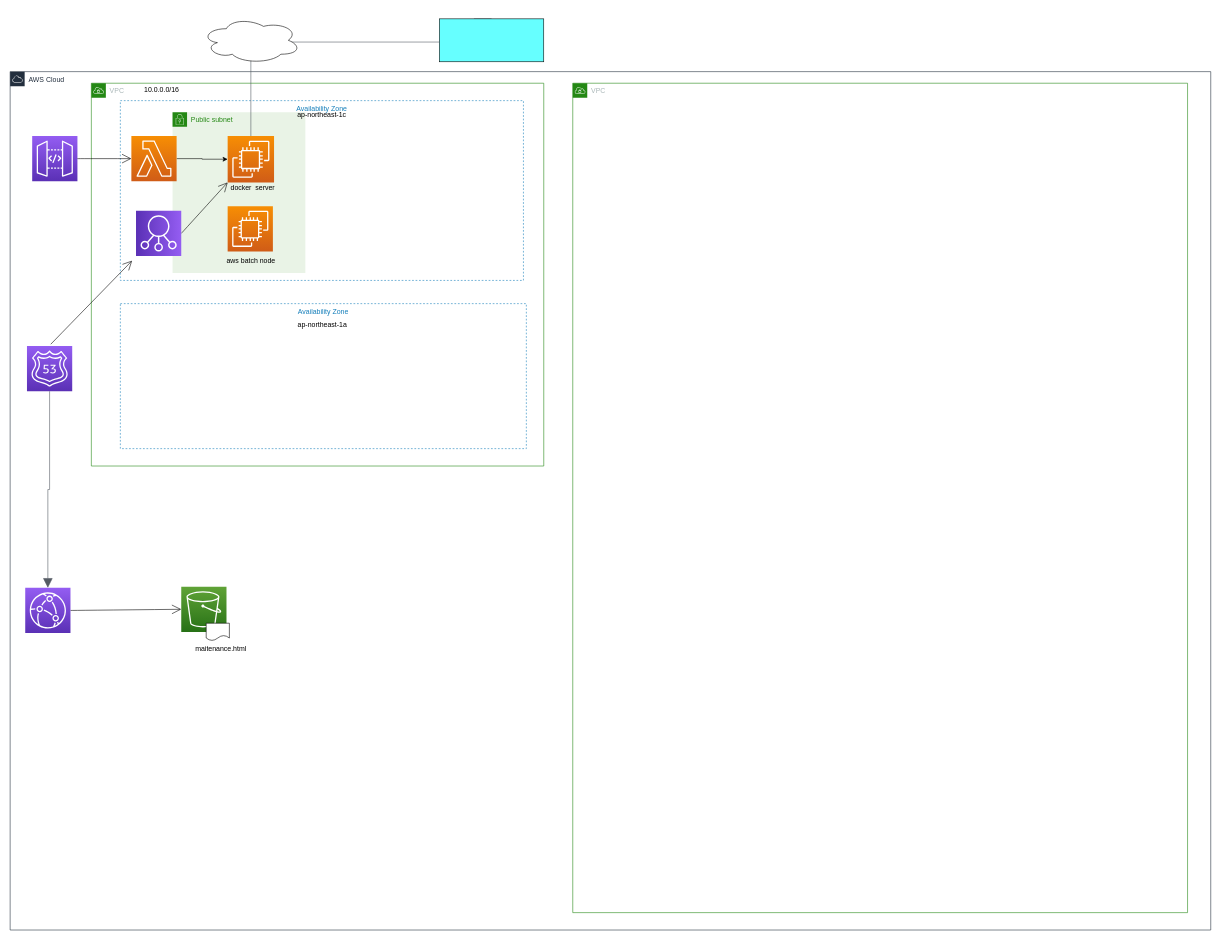
Image size: 1221x940. Some labels were removed from this diagram. Each missing label, with the centre of its shape:
Internet: [251,40]
SkyWAY: [491,40]
